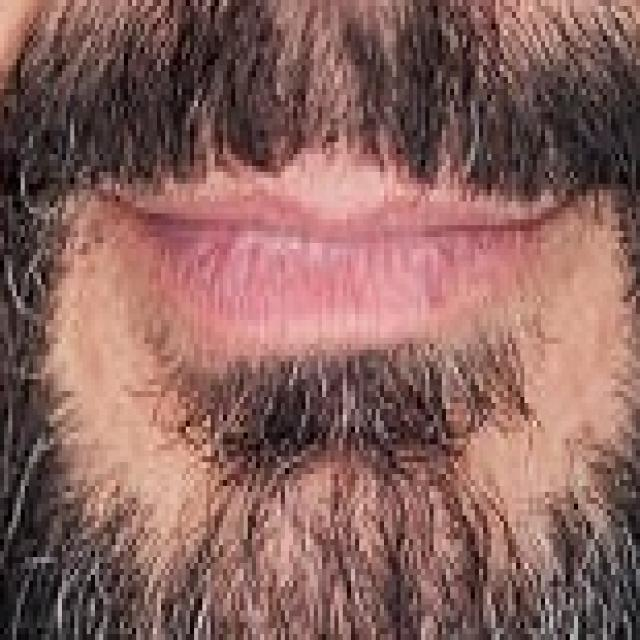closed-mouth: (90, 148, 590, 368)
